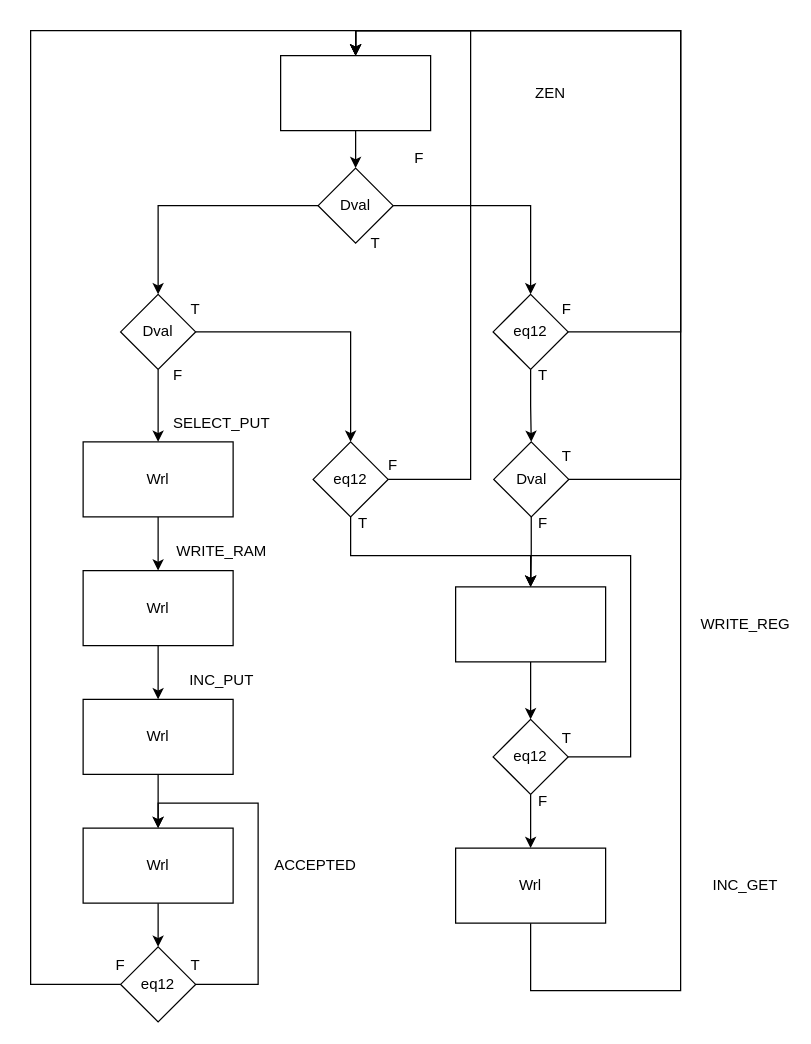
Some shapes in this 811 by 1044 pixel diagram are drawn without their labels. Each missing label, with the centre of its shape:
countclear: point (355, 92)
done: point (530, 624)
